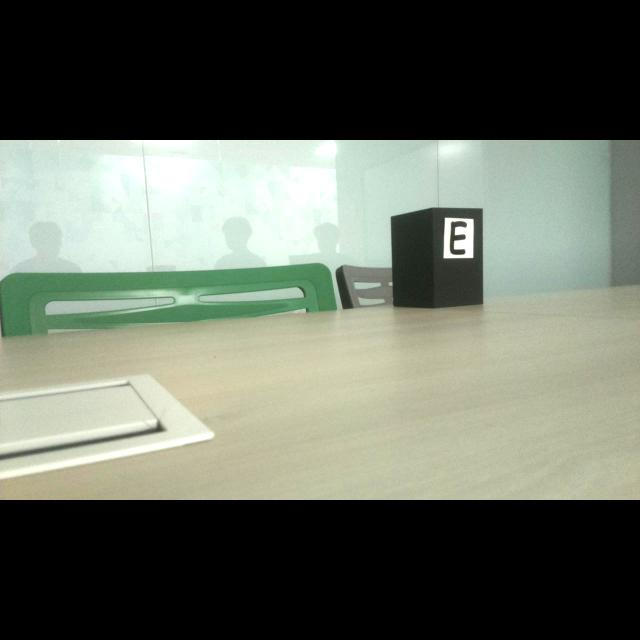E: (450, 221, 467, 255)
